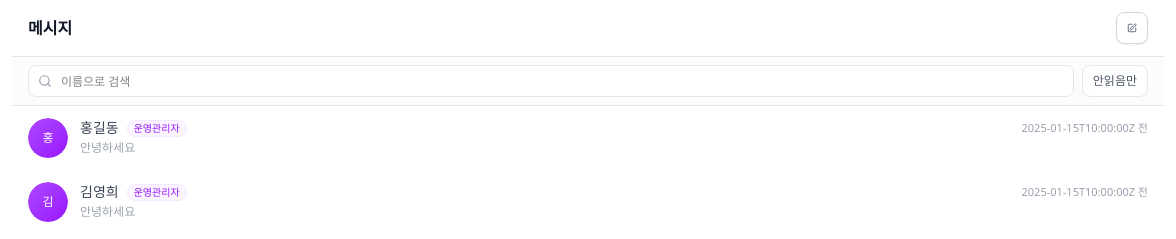
Test case: ConversationList › 검색 › 검색어 입력 시 상대방 이름이 매칭되는 대화만 노출된다
The image size is (1176, 239).
Type "홍" into the search field with placeholder "이름으로 검색". click: [551, 81]
box: [28,65,1074,97]
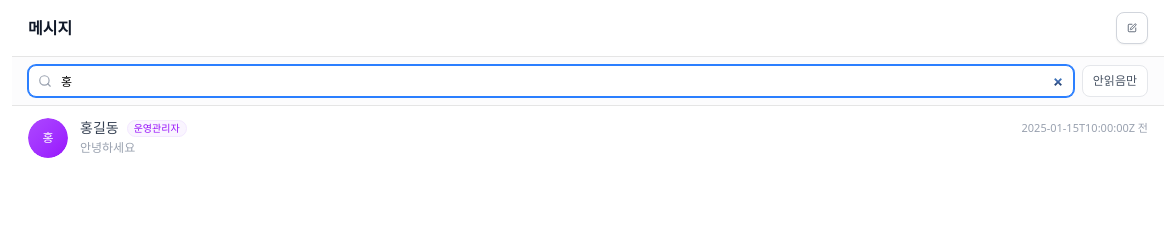
Expected: the text "홍길동" is shown, [80,118,119,138]
Now the button "김영희" is gone
